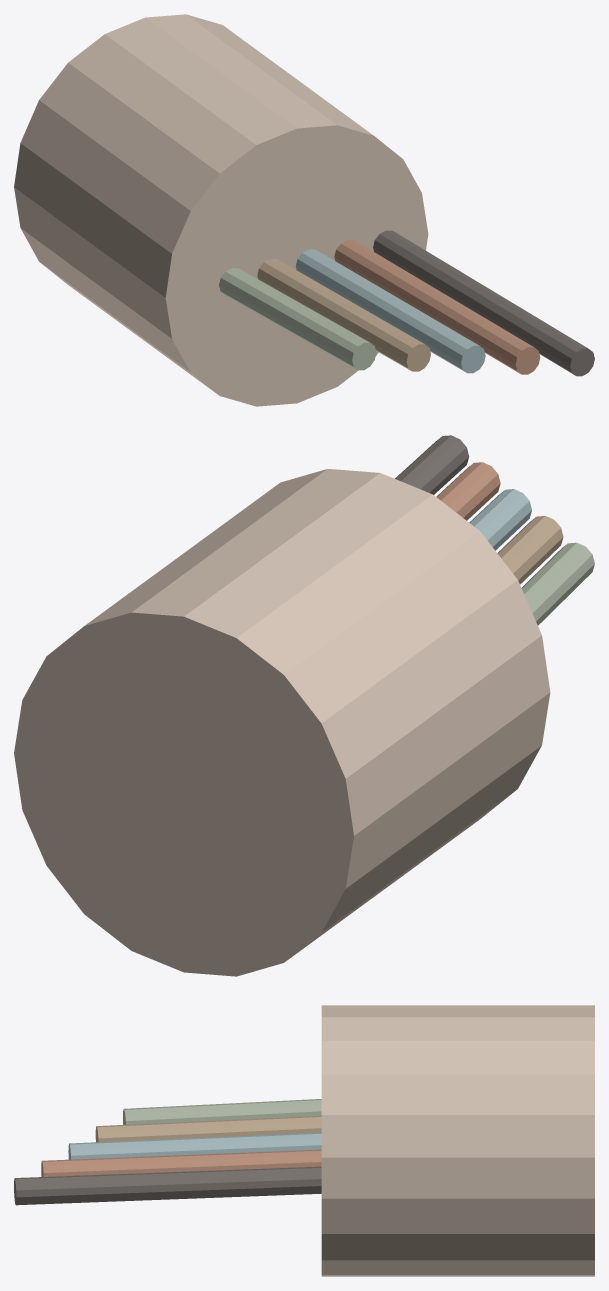
The model's file is pen_cup.glb.
3 renders of one model, top to bottom at view 1: azimuth 30°, elevation 25°; view 2: azimuth 150°, elevation 25°; view 3: azimuth 270°, elevation 25°, orthographic. The views are drawn at different scales.
Visible parts, largest first — view 1: pencil_cup, pen_4, pen_3, pen_2, pen_1, pen_0; view 2: pencil_cup, pen_0, pen_1, pen_4, pen_2, pen_3; view 3: pencil_cup, pen_4, pen_3, pen_2, pen_1, pen_0.
Part boxes in pixels (left/top/right/bottom): pencil_cup: left=14, top=14, right=428, bottom=406; pen_4: left=373, top=230, right=594, bottom=376; pen_3: left=334, top=240, right=540, bottom=374; pen_2: left=295, top=249, right=485, bottom=373; pen_1: left=257, top=258, right=430, bottom=371; pen_0: left=219, top=268, right=376, bottom=370; pencil_cup: left=14, top=469, right=550, bottom=976; pen_0: left=521, top=542, right=594, bottom=625; pen_1: left=497, top=516, right=563, bottom=584; pen_4: left=395, top=435, right=469, bottom=494; pen_2: left=469, top=489, right=531, bottom=550; pen_3: left=436, top=462, right=500, bottom=520; pencil_cup: left=321, top=1005, right=594, bottom=1276; pen_4: left=14, top=1166, right=321, bottom=1205; pen_3: left=41, top=1149, right=321, bottom=1176; pen_2: left=68, top=1132, right=321, bottom=1159; pen_1: left=95, top=1115, right=321, bottom=1142; pen_0: left=123, top=1099, right=321, bottom=1124.
Bounding box in the file's own units: 0.18 × 0.18 × 0.3828.
